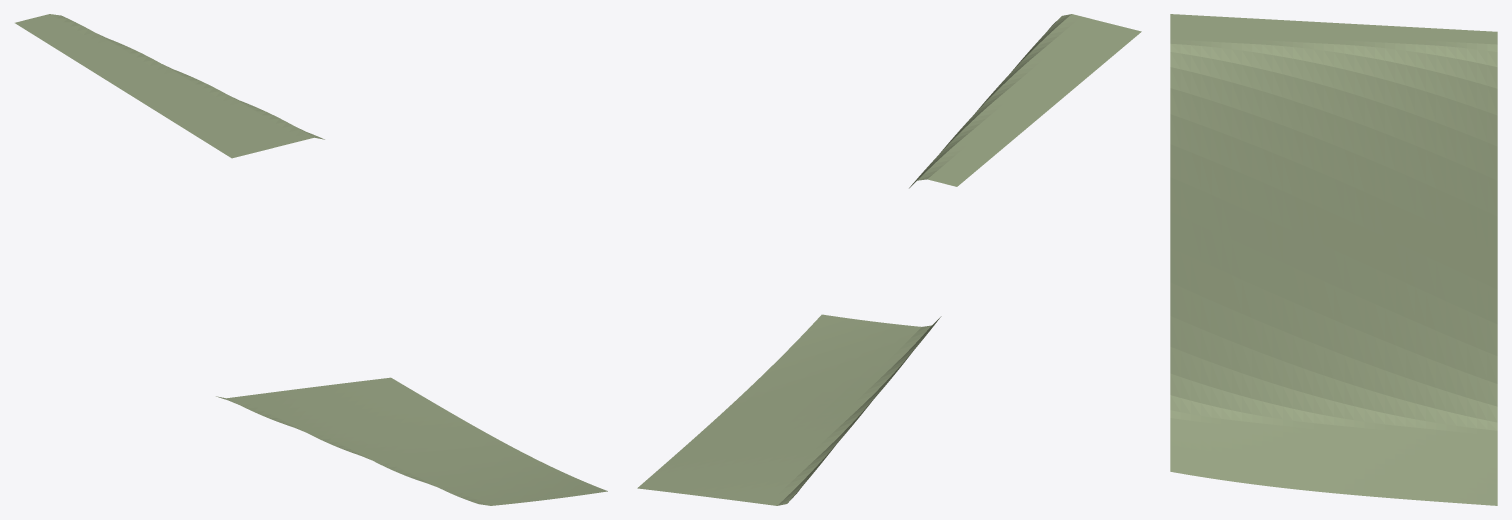
Rendered from alpine-12-5.glb.
The picture shows the model from 3 angles, left to right: view 1: azimuth 30°, elevation 25°; view 2: azimuth 150°, elevation 25°; view 3: azimuth 270°, elevation 25°; orthographic projection. The views are drawn at different scales.
Parts seen in each view (by area): view 1: alpine-12-5; view 2: alpine-12-5; view 3: alpine-12-5.
Part boxes in pixels (x1,y1,x2,y2): alpine-12-5: [15, 14, 607, 505]; alpine-12-5: [637, 14, 1141, 505]; alpine-12-5: [1170, 14, 1497, 505].
Size of the model in its own units: 256 by 306 by 256.
